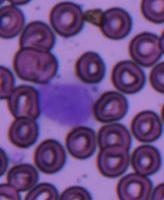L: (41, 80, 93, 127)
